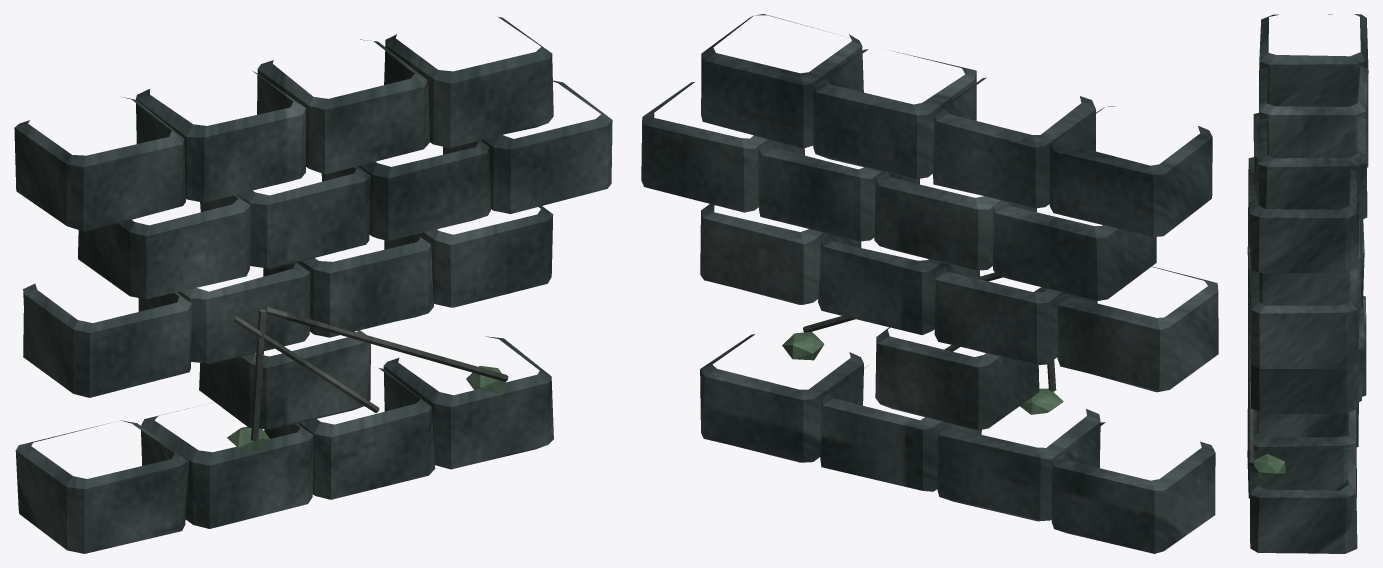
Rendered from 0330_wall_section_05.glb.
The picture shows the model from 3 angles, left to right: view 1: azimuth 30°, elevation 25°; view 2: azimuth 150°, elevation 25°; view 3: azimuth 270°, elevation 25°; orthographic projection. The views are drawn at different scales.
Visible parts, largest first — view 1: stone_dark, iron, moss; view 2: stone_dark, moss, iron; view 3: stone_dark, iron, moss.
Part boxes in pixels (x1,y1,x2,y2): stone_dark: (14,17,612,553); iron: (231,306,508,441); moss: (227,365,505,451); stone_dark: (641,14,1218,553); moss: (782,332,1063,414); iron: (803,272,1056,391); stone_dark: (1247,14,1368,553); iron: (1248,237,1254,466); moss: (1250,454,1285,482).
Size of the model in its own units: 2.67 by 1.88 by 0.5956.
Materials: 3 (3 with a texture image).
